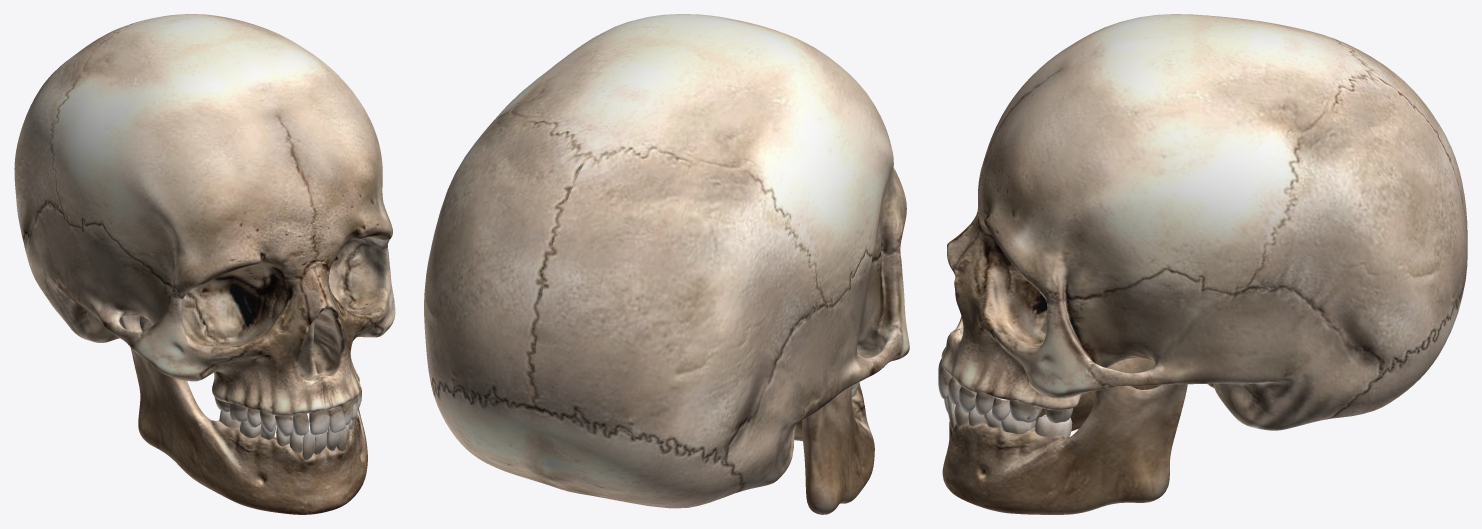
File: skull2.gltf
3 renders of one model, left to right at view 1: azimuth 30°, elevation 25°; view 2: azimuth 150°, elevation 25°; view 3: azimuth 270°, elevation 25°, orthographic. The views are drawn at different scales.
Visible parts, largest first — view 1: Default; view 2: Default; view 3: Default.
Boxes of the visible parts, box(x1,y1,x2,y2) form: Default: box(14, 14, 395, 514); Default: box(424, 14, 909, 514); Default: box(938, 14, 1467, 514).
Bounding box in the file's own units: 99.2 × 138 × 147.
Materials: 1 (1 with a texture image).
